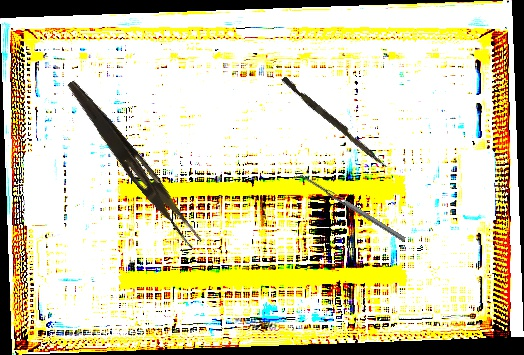Dressing Forceps: (58, 77, 209, 251)
Pusher: (279, 76, 391, 169)
Spatula Surgical: (292, 169, 406, 247)
